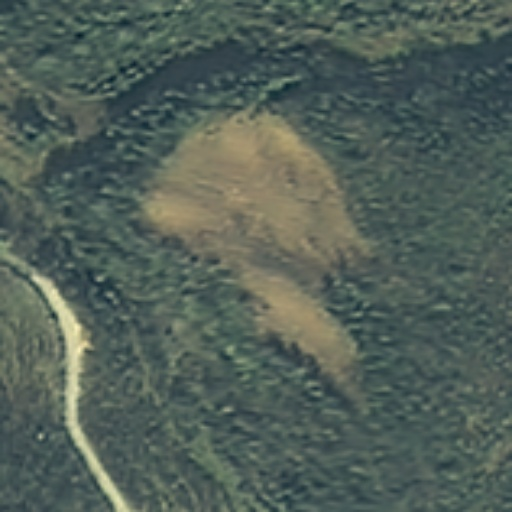landslide: (149, 102, 369, 381)
